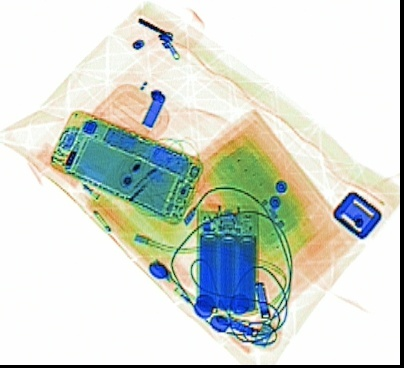powerbank: (190, 200, 261, 316)
